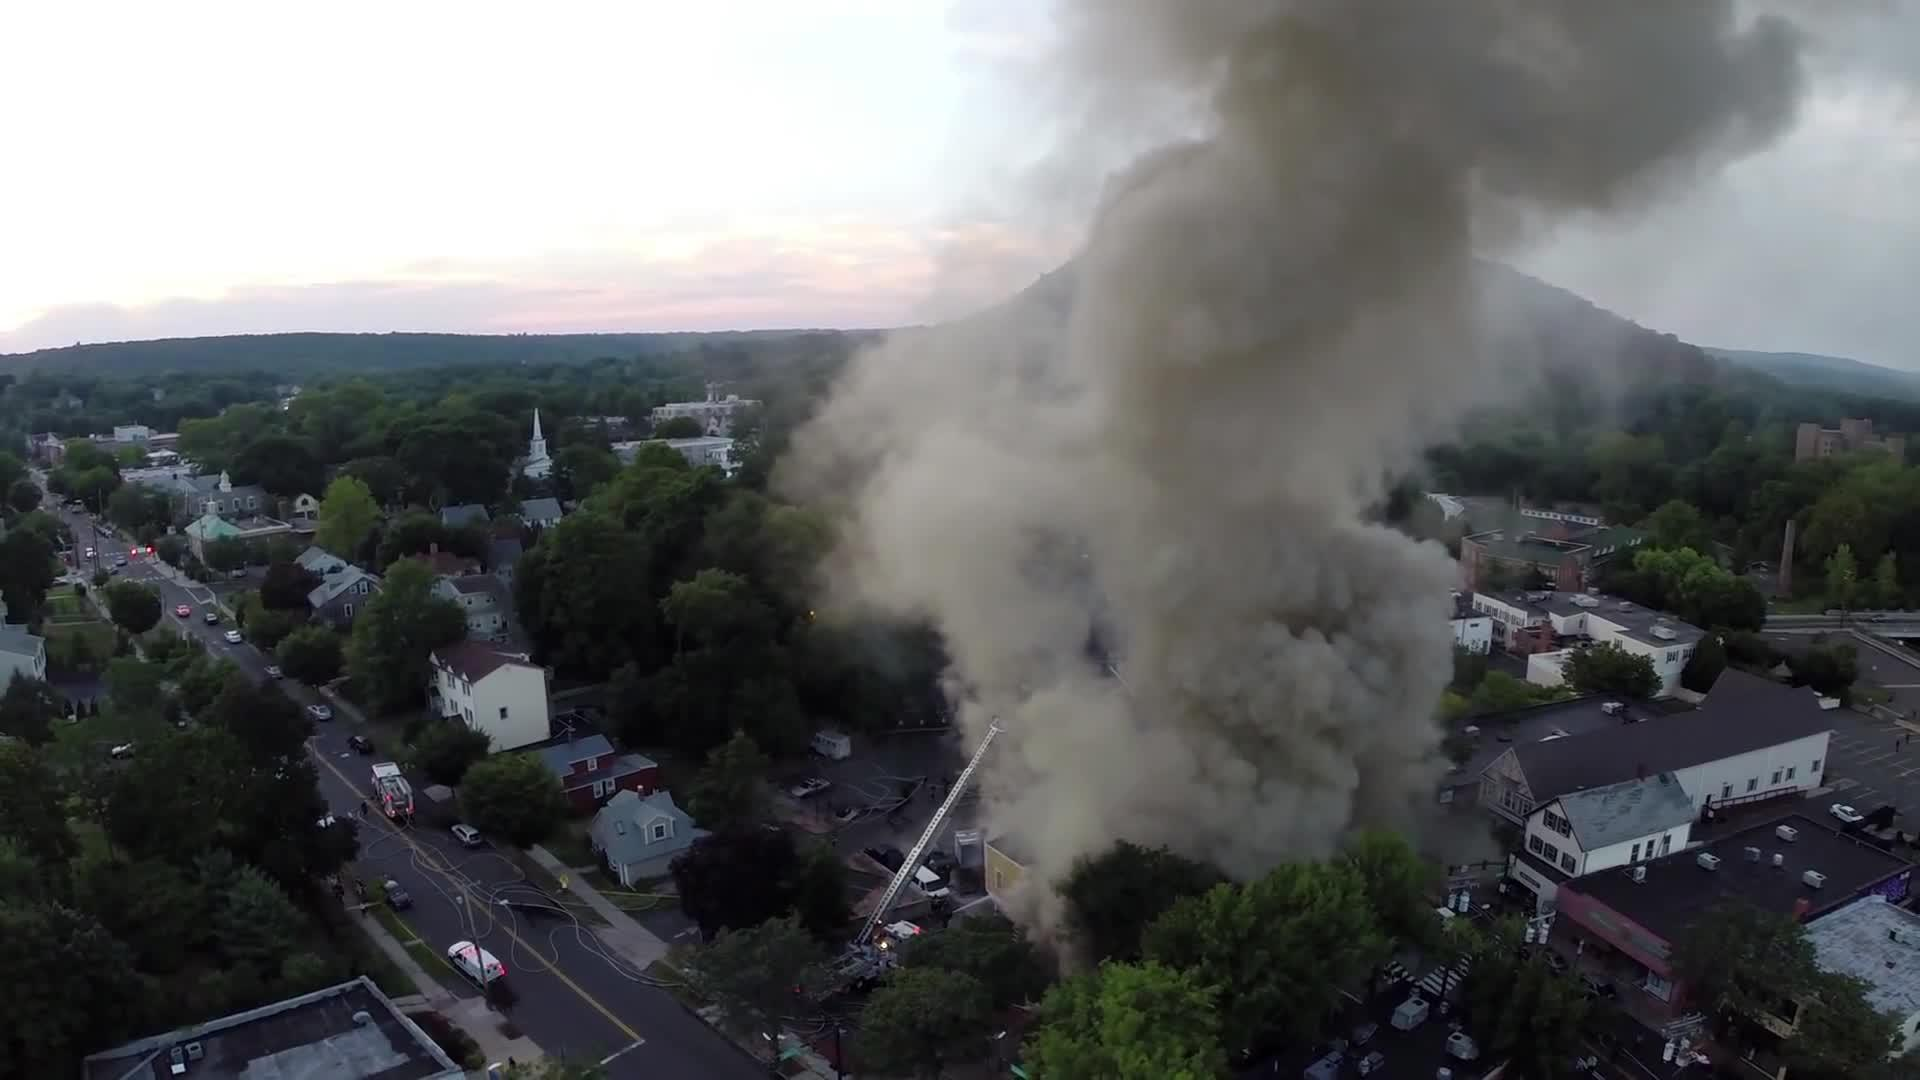smoke: (1145, 26, 1709, 313), (916, 347, 1354, 641)
